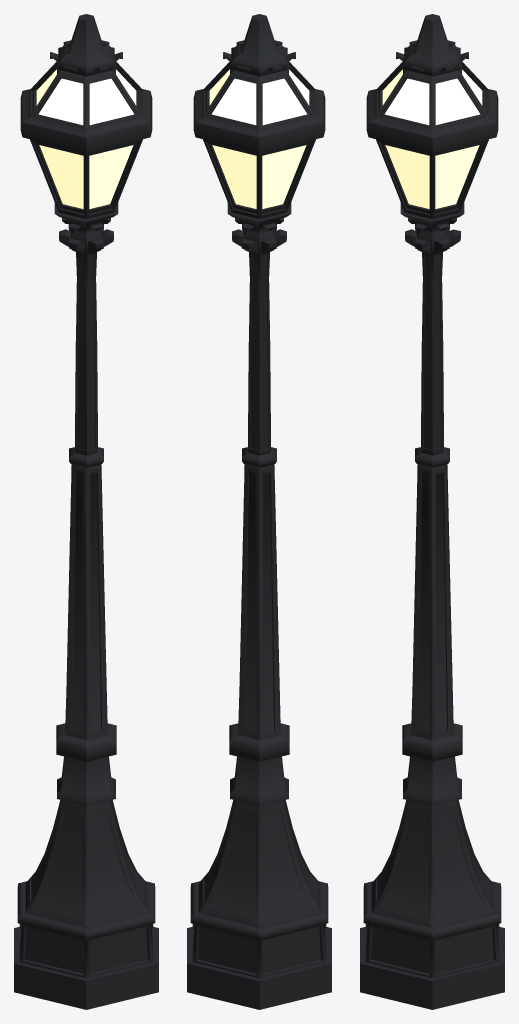
The model's file is street-lamp.glb.
3 renders of one model, left to right at view 1: azimuth 30°, elevation 25°; view 2: azimuth 150°, elevation 25°; view 3: azimuth 270°, elevation 25°, orthographic.
Visible parts, largest first — view 1: post, lantern_glass; view 2: post, lantern_glass; view 3: post, lantern_glass.
Part boxes in pixels (box(x1,y1,x2,y2)): post: box(14, 14, 158, 1009); lantern_glass: box(36, 69, 136, 208); post: box(187, 14, 331, 1009); lantern_glass: box(209, 69, 309, 208); post: box(360, 14, 504, 1009); lantern_glass: box(382, 69, 482, 208).
Size of the model in its own units: 0.6341 by 4 by 0.5492.
